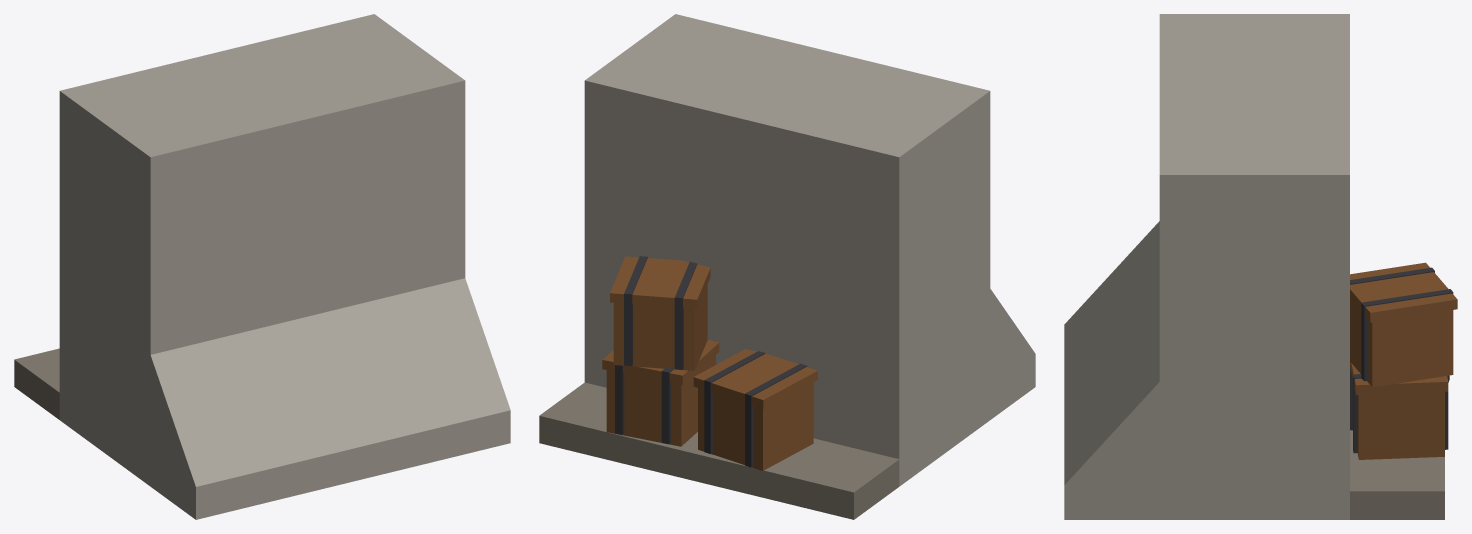
File: Mur_Dol_Skrzynie.fbx
The picture shows the model from 3 angles, left to right: view 1: azimuth 30°, elevation 25°; view 2: azimuth 150°, elevation 25°; view 3: azimuth 270°, elevation 25°; orthographic projection. The views are drawn at different scales.
Visible parts, largest first — view 1: Mur_Dol_Skrzynie; view 2: Mur_Dol_Skrzynie; view 3: Mur_Dol_Skrzynie.
Boxes of the visible parts, x1,y1,x2,y2 form: Mur_Dol_Skrzynie: (14, 14, 510, 519); Mur_Dol_Skrzynie: (539, 14, 1035, 519); Mur_Dol_Skrzynie: (1064, 14, 1457, 519).
Bounding box in the file's own units: 3 × 3 × 3.1.
